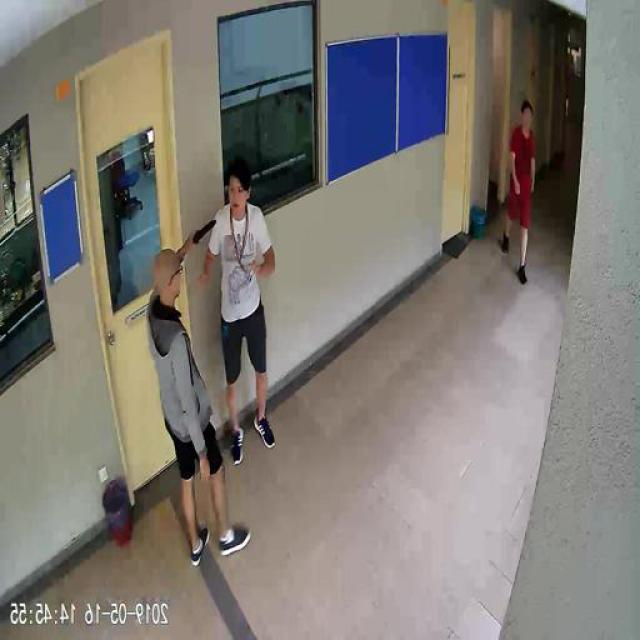Gun: (190, 216, 218, 246)
